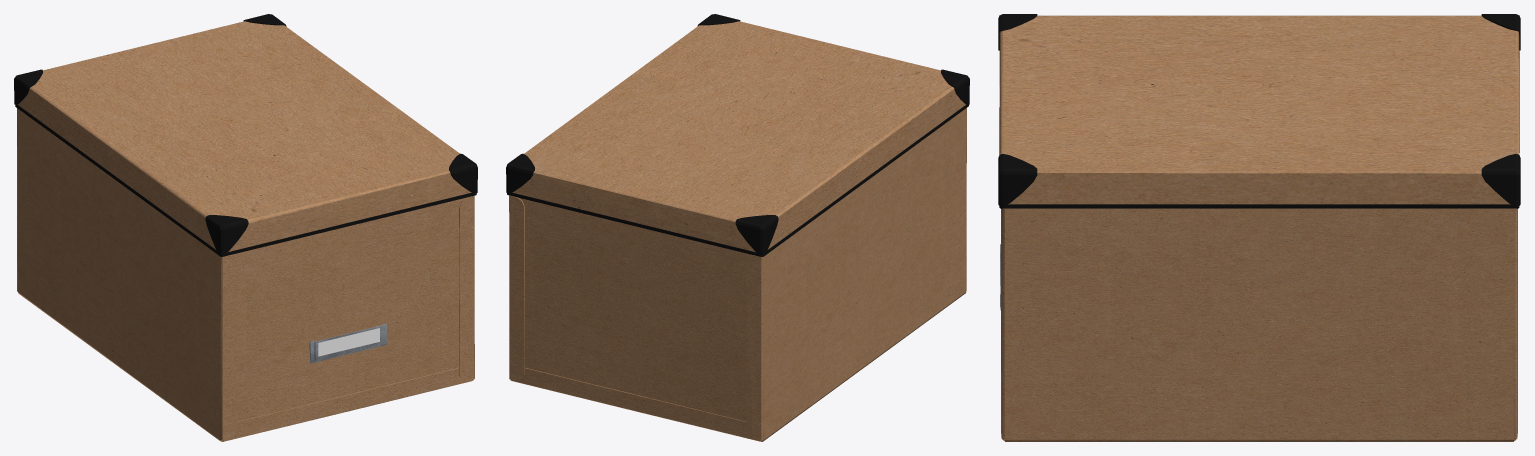
The picture shows the model from 3 angles, left to right: view 1: azimuth 30°, elevation 25°; view 2: azimuth 150°, elevation 25°; view 3: azimuth 270°, elevation 25°; orthographic projection. The views are drawn at different scales.
Parts seen in each view (by area): view 1: Box, cover; view 2: Box, cover; view 3: Box, cover.
Boxes of the visible parts, x1,y1,x2,y2 form: Box: (17, 108, 474, 441); cover: (14, 14, 477, 256); Box: (509, 108, 966, 441); cover: (506, 14, 969, 256); Box: (1000, 208, 1517, 441); cover: (998, 14, 1520, 208).
Bounding box in the file's own units: 407 × 567 × 328.
1 material, 1 textured.
